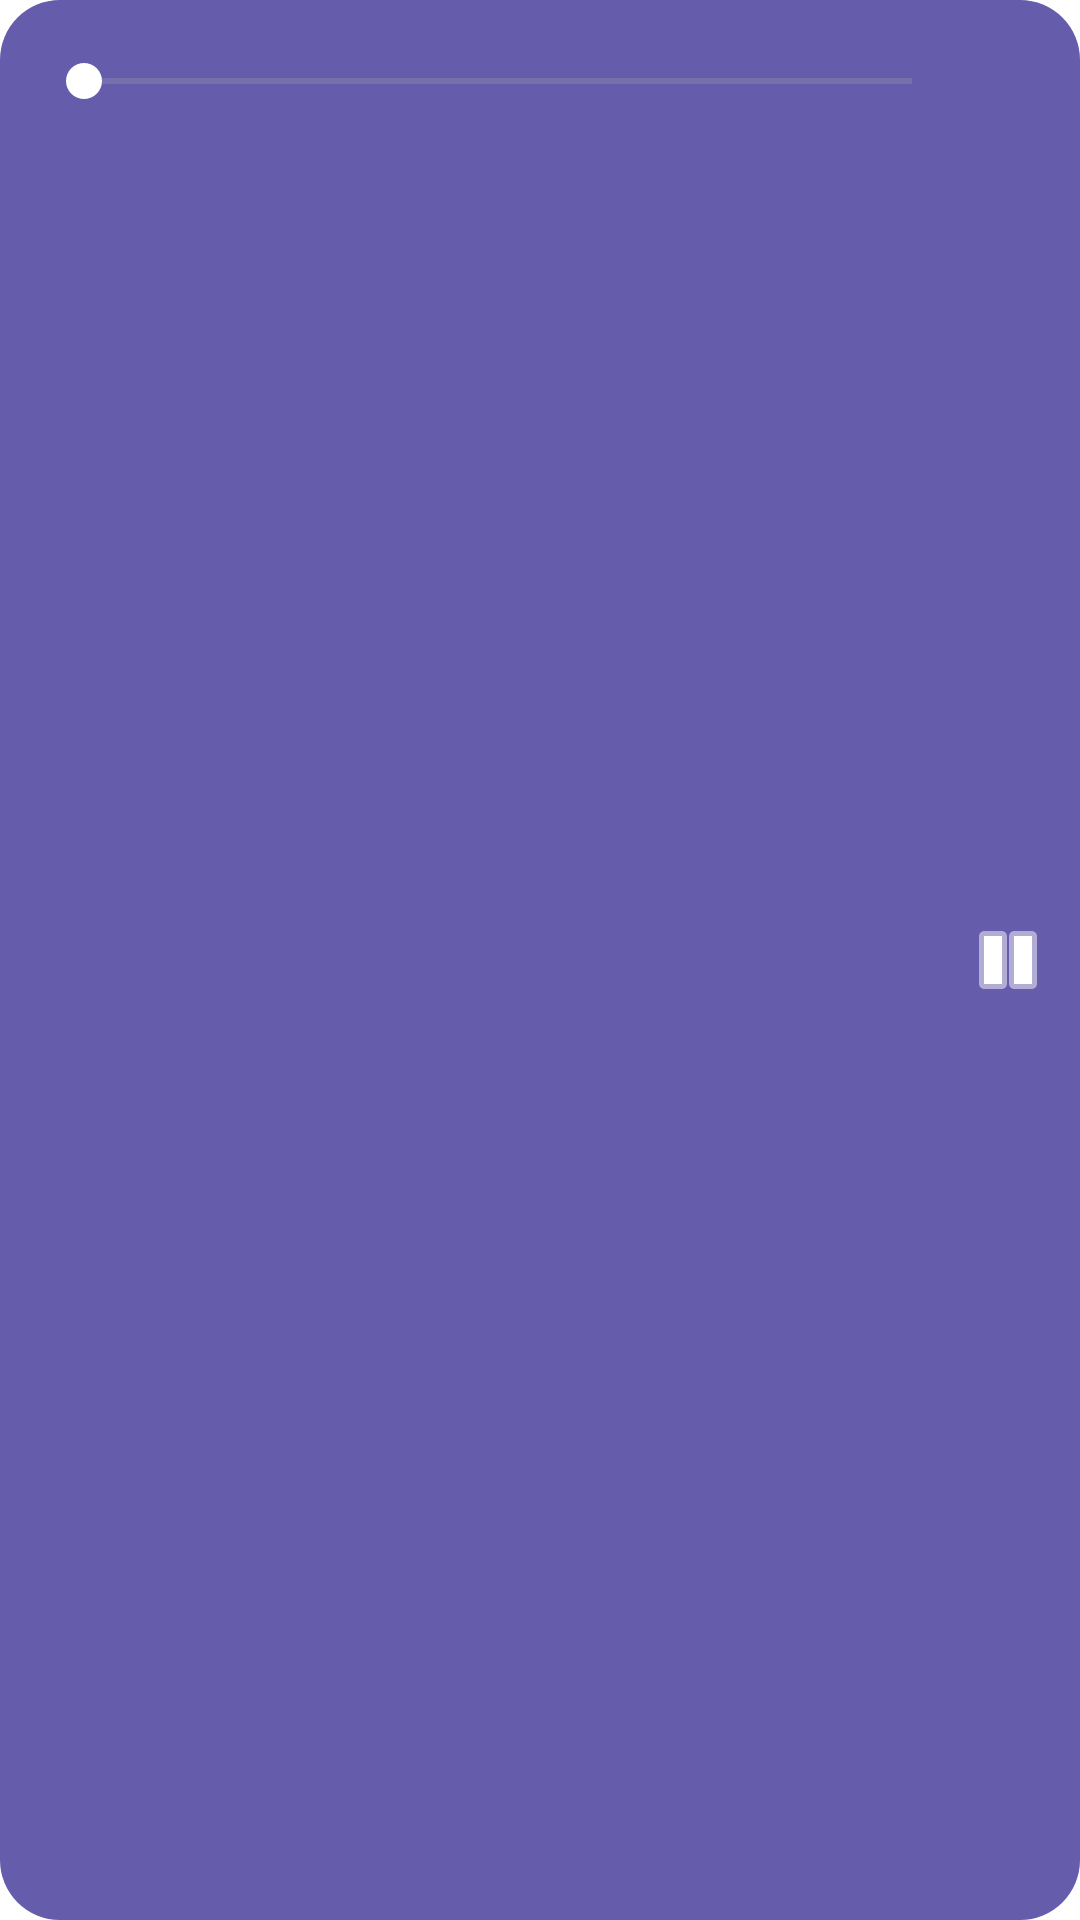

Named icons in this screenshot (1080px×1920px) and their bounding boxes, (x1, y1, x2, y2):
pause: (979, 931, 1037, 989)
